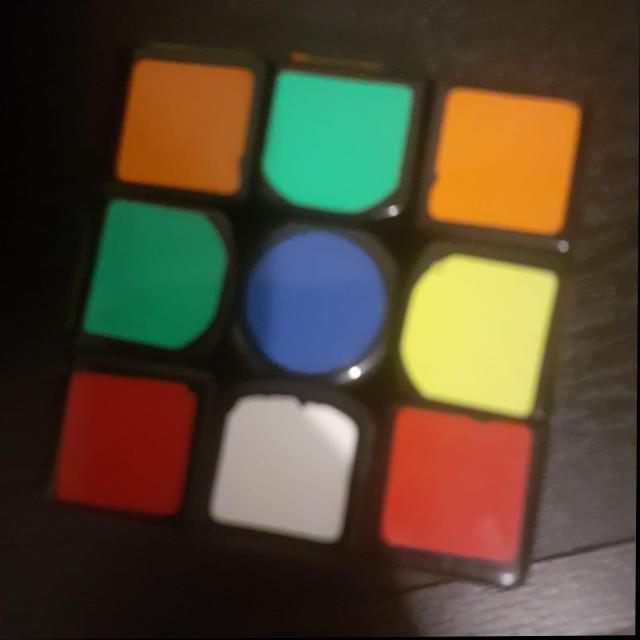Blue: (239, 229, 396, 371)
Green: (273, 78, 422, 210), (87, 209, 228, 339)
Orange: (437, 93, 579, 227), (122, 70, 254, 182)
Red: (50, 375, 202, 518), (386, 428, 542, 554)
White: (213, 400, 367, 534)
Yellow: (404, 261, 560, 399)
